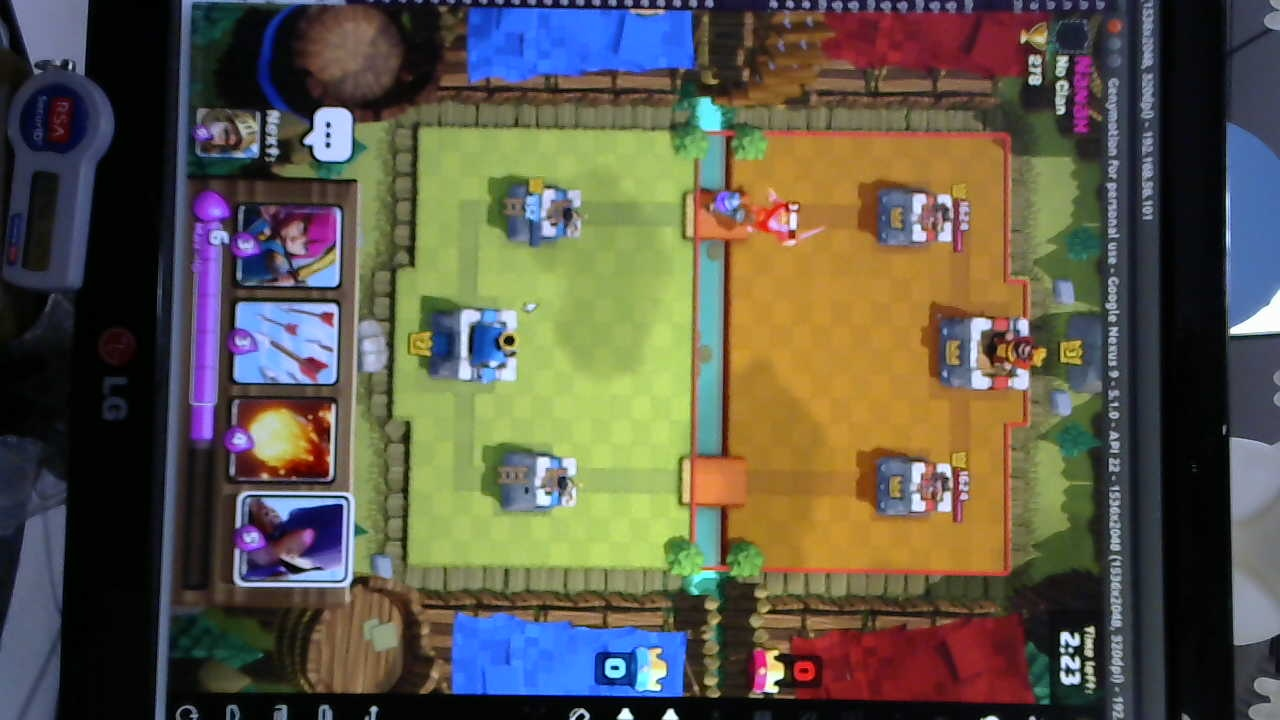arena: (494, 445, 580, 516), (506, 179, 584, 243)
earena: (871, 450, 957, 519), (873, 184, 956, 253)
eking: (935, 310, 1037, 393)
king: (420, 305, 520, 390)
knight: (752, 192, 809, 249)
musketeer: (696, 185, 754, 227)
